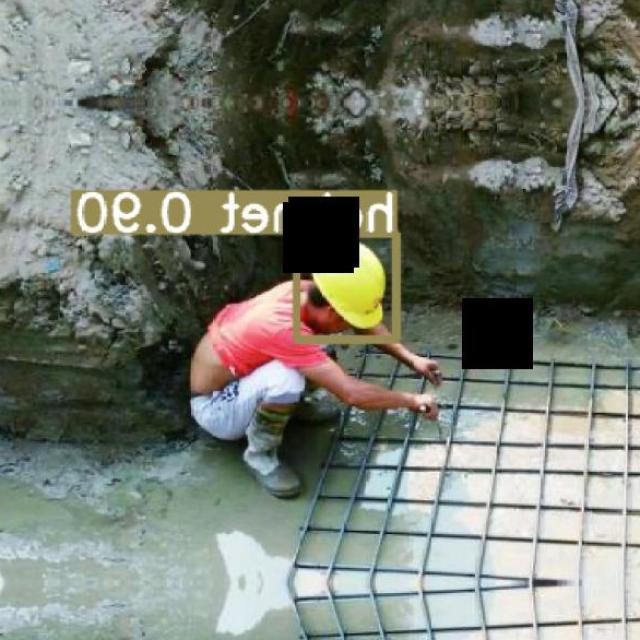helmet: (312, 241, 387, 330)
